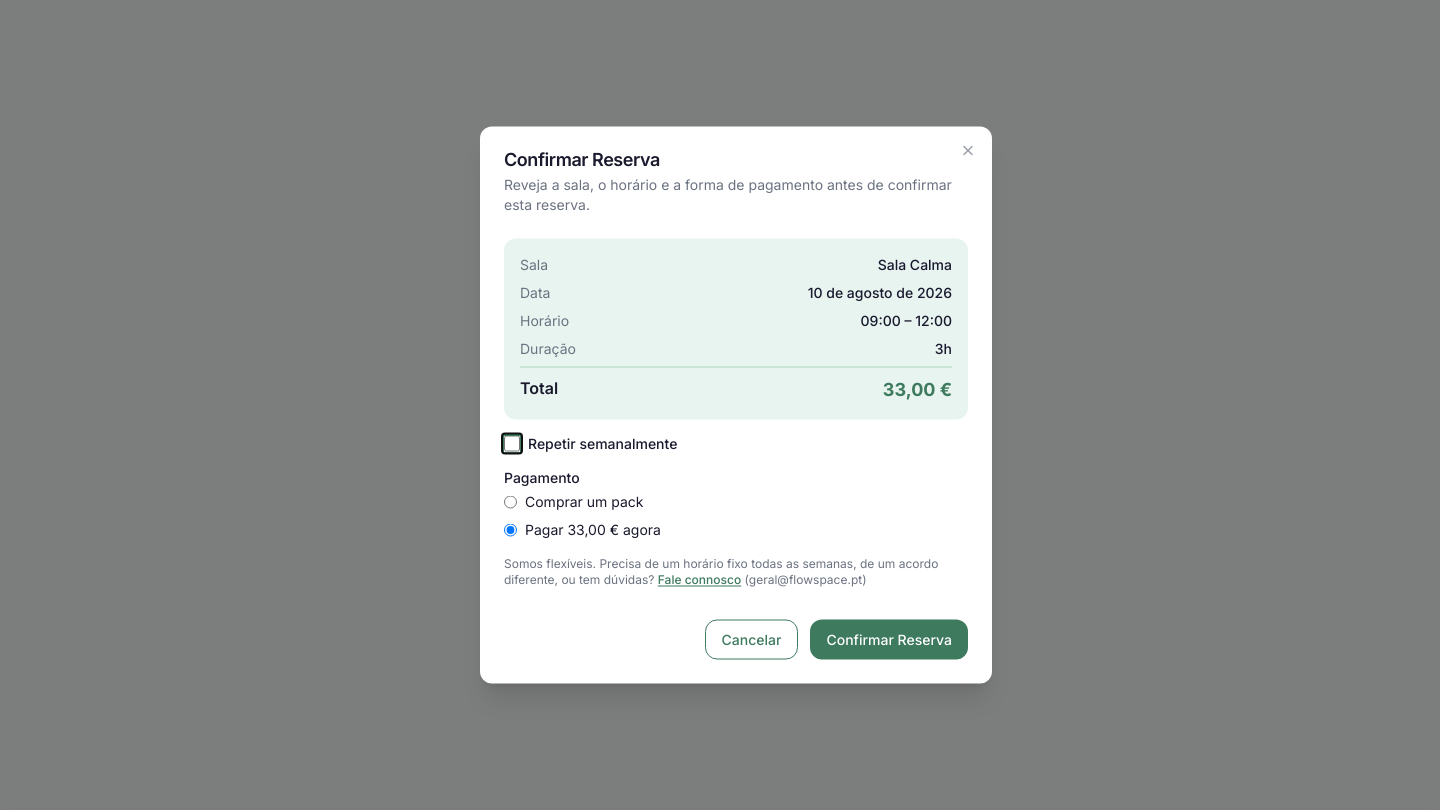
BookingModal recurring series (Epic 1.4) › shows the until-date field and a dated preview once "repeat weekly" is toggled
Expected: the field labelled "Repetir até" is not shown
Step 1. Click the checkbox labelled "Repetir semanalmente" → x=512, y=444, box [504,436,520,452]
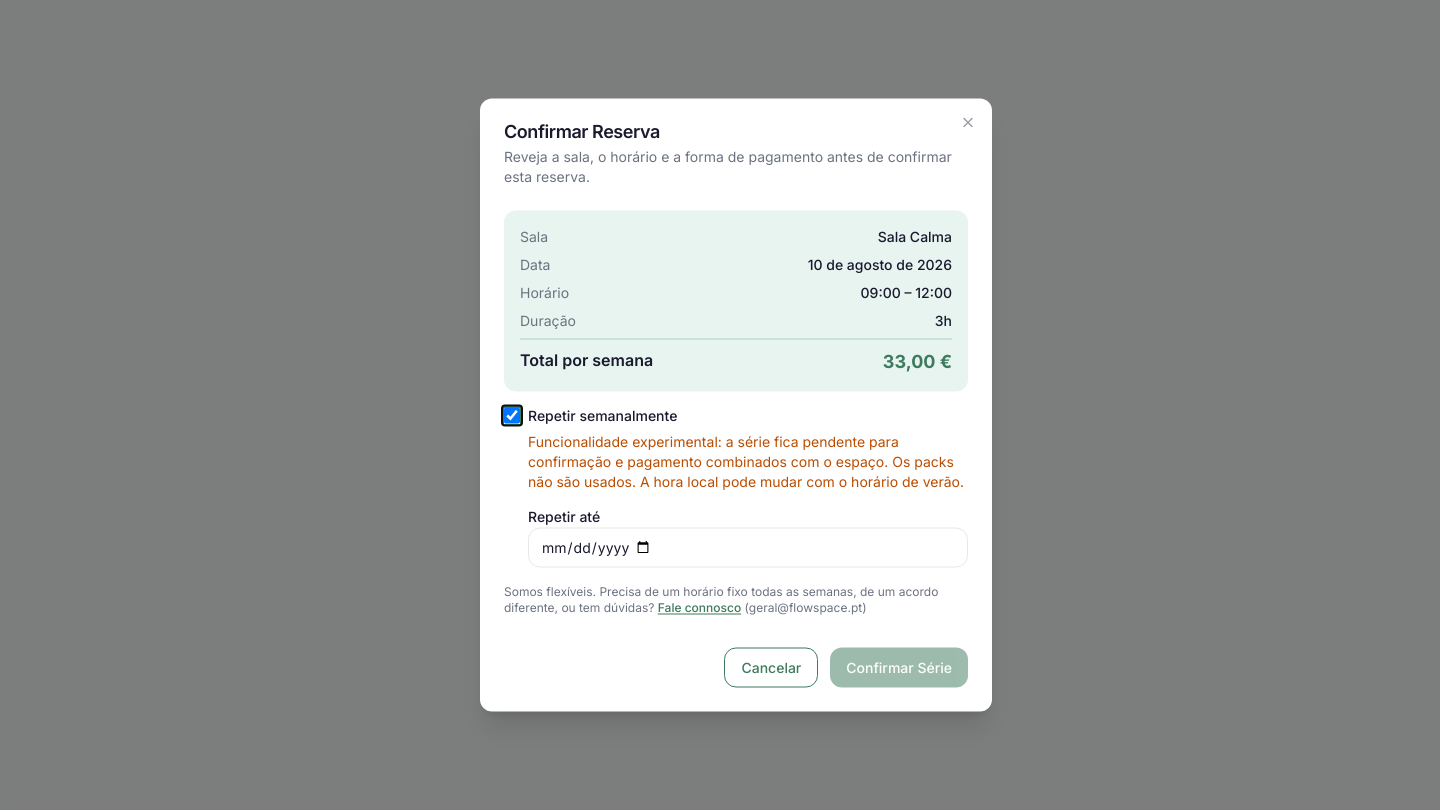
Step 2. Type "2026-08-24" into the date field labelled "Repetir até" → x=748, y=548, box [528,528,968,568]
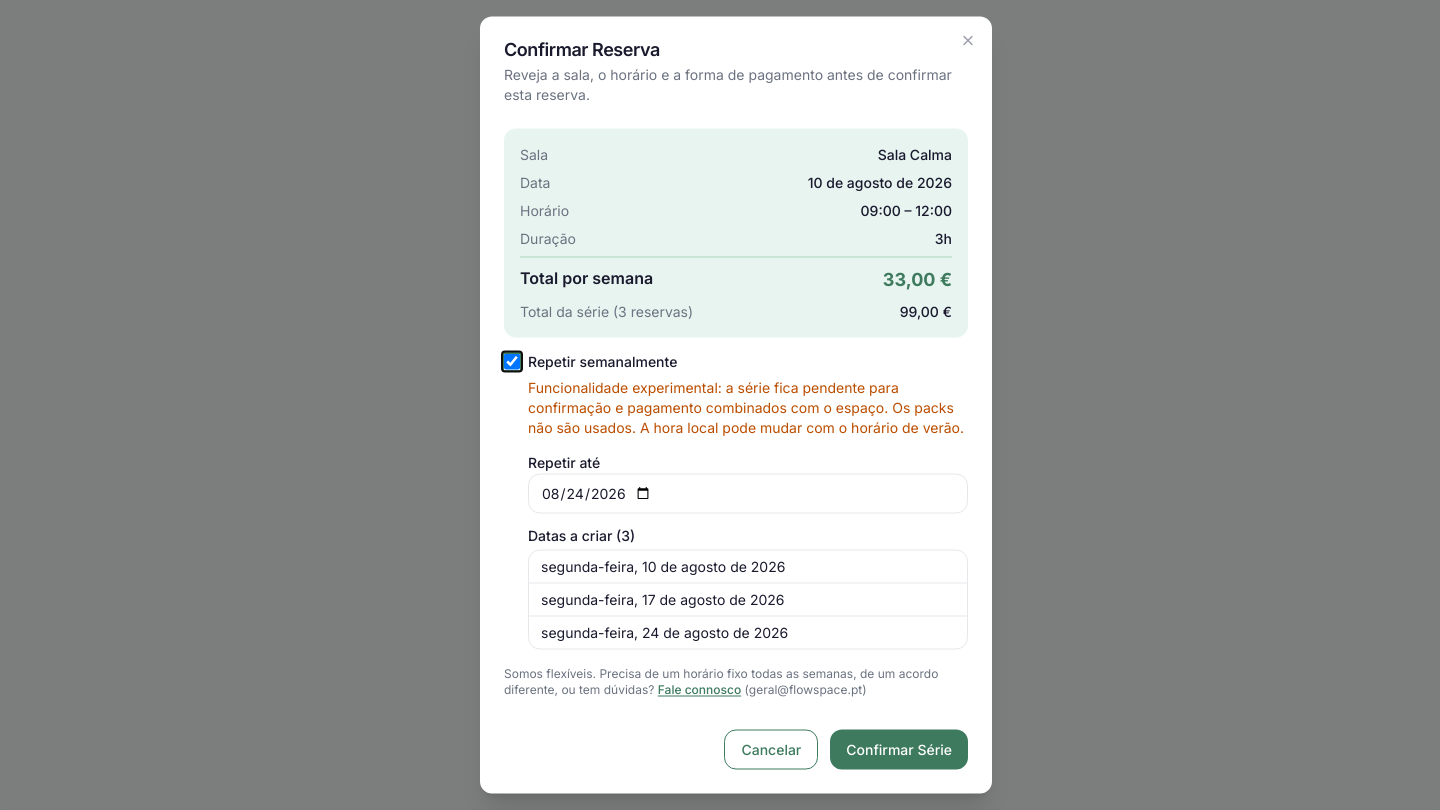
Result: the text "Datas a criar (3)" is shown at [528,526,635,544]
